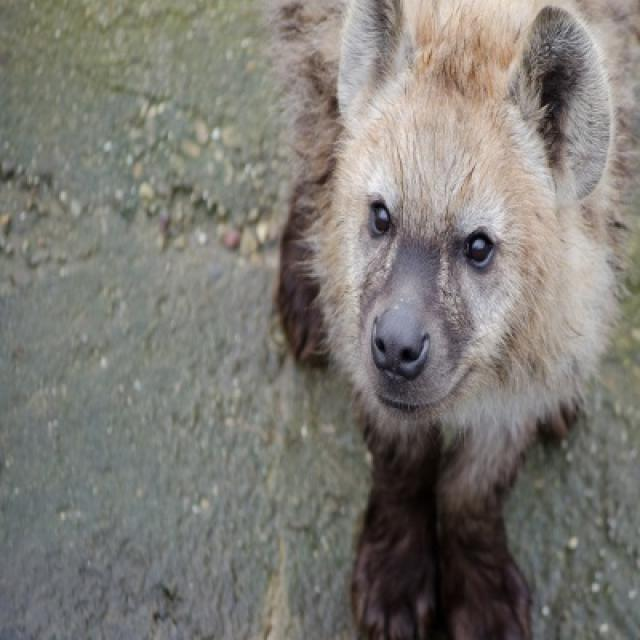hyena: (270, 0, 638, 638)
